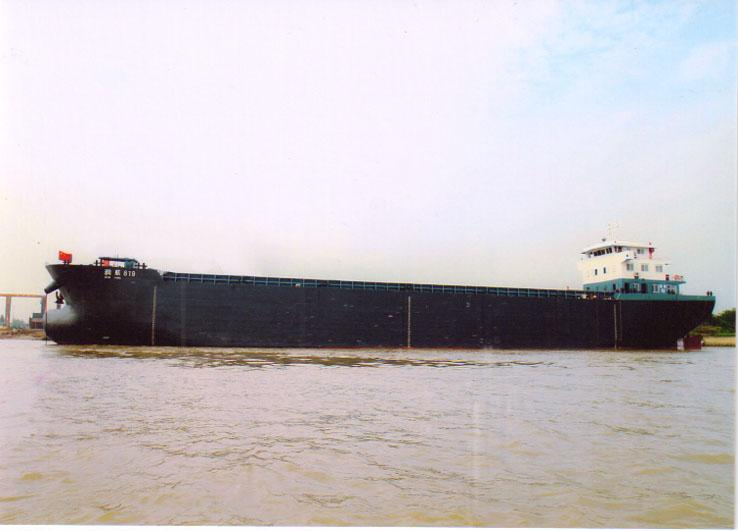Cargoship: (35, 225, 721, 354)
